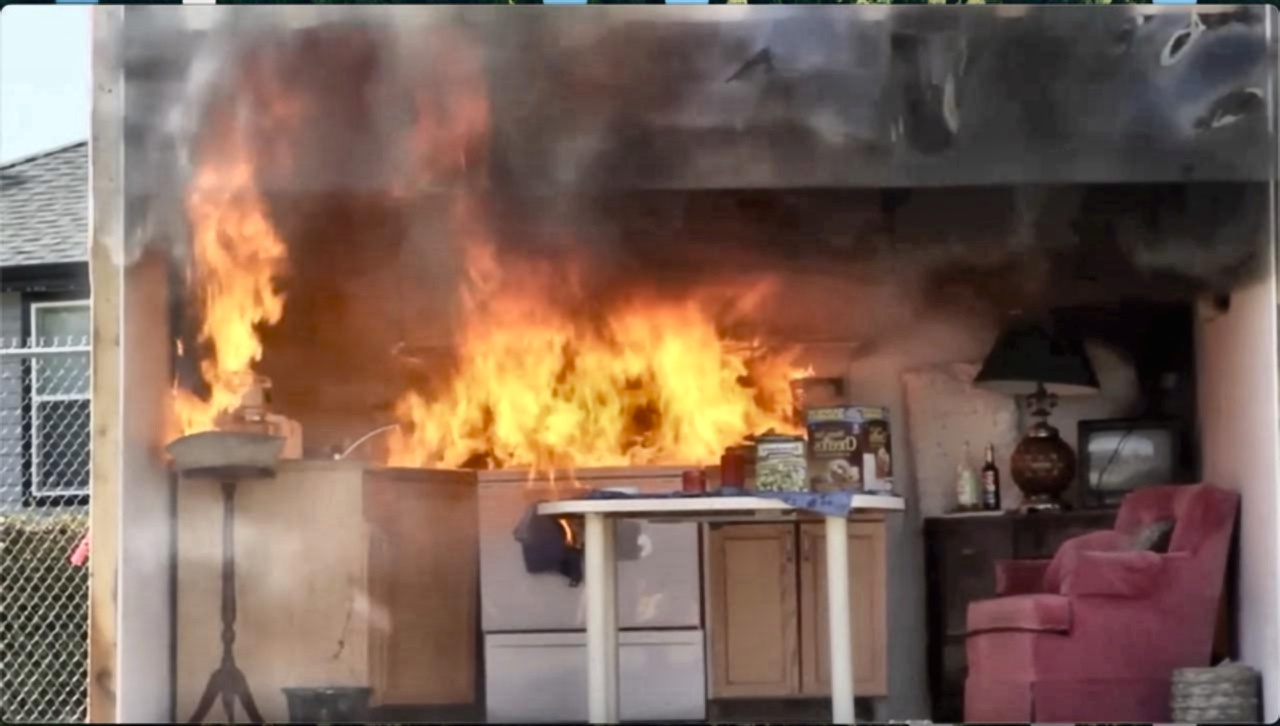fire: (149, 235, 854, 514)
